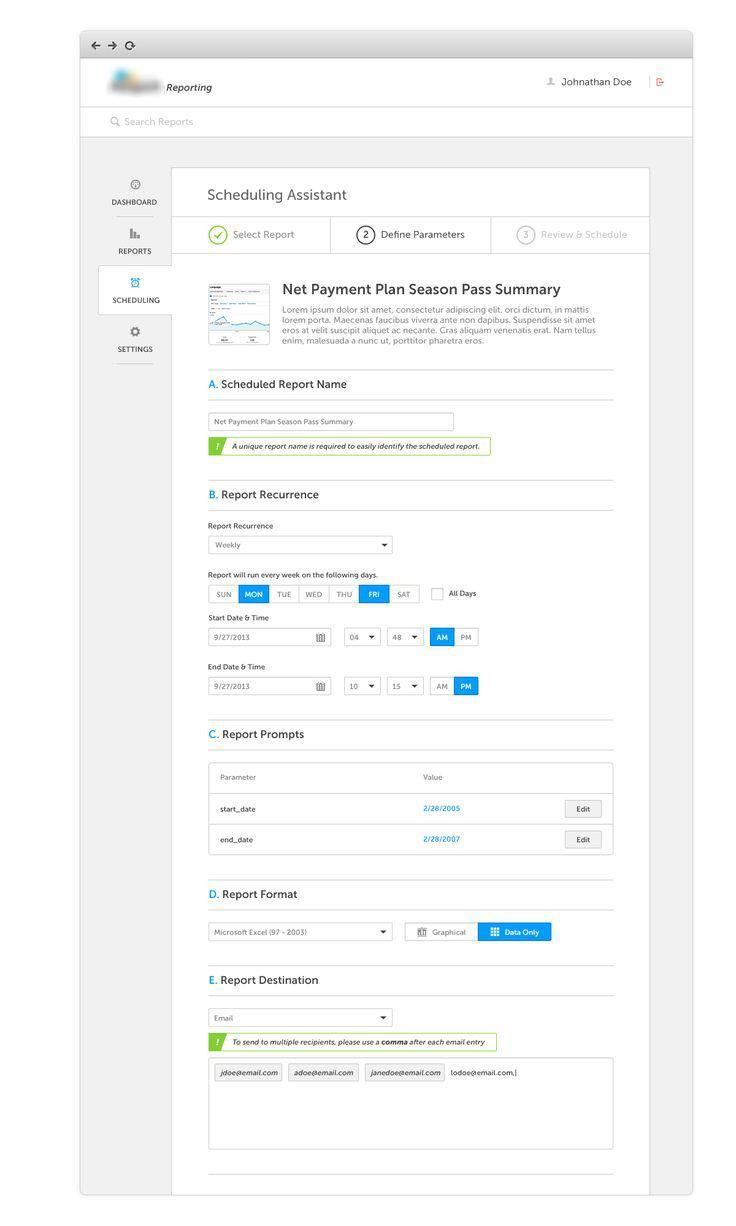button: (366, 1064, 446, 1083), (479, 923, 552, 942), (406, 924, 479, 942), (288, 1064, 360, 1082), (216, 1064, 283, 1082), (566, 801, 602, 818), (566, 832, 603, 848), (240, 586, 270, 604), (270, 586, 299, 604), (391, 586, 420, 604), (300, 587, 330, 604), (330, 587, 360, 604), (360, 587, 390, 604), (210, 586, 239, 603), (431, 628, 455, 647), (455, 629, 479, 647), (455, 678, 479, 696), (432, 678, 455, 696)
checkbox: (433, 589, 444, 601)
dropdown: (209, 536, 394, 556), (209, 924, 394, 942), (210, 1010, 394, 1028), (388, 628, 425, 647), (345, 677, 382, 696), (345, 628, 382, 646), (388, 678, 425, 696)
icon: (127, 327, 147, 342), (128, 228, 145, 244), (129, 279, 146, 295), (131, 178, 143, 195), (656, 78, 667, 88)
input: (101, 106, 675, 140), (209, 413, 454, 431), (209, 678, 333, 696), (210, 629, 332, 647)
label: (542, 227, 633, 244), (384, 231, 472, 244), (234, 230, 300, 243), (207, 612, 273, 625), (111, 198, 161, 211), (108, 296, 166, 307), (207, 665, 268, 675), (118, 344, 159, 358), (113, 247, 157, 260), (447, 589, 478, 602)
